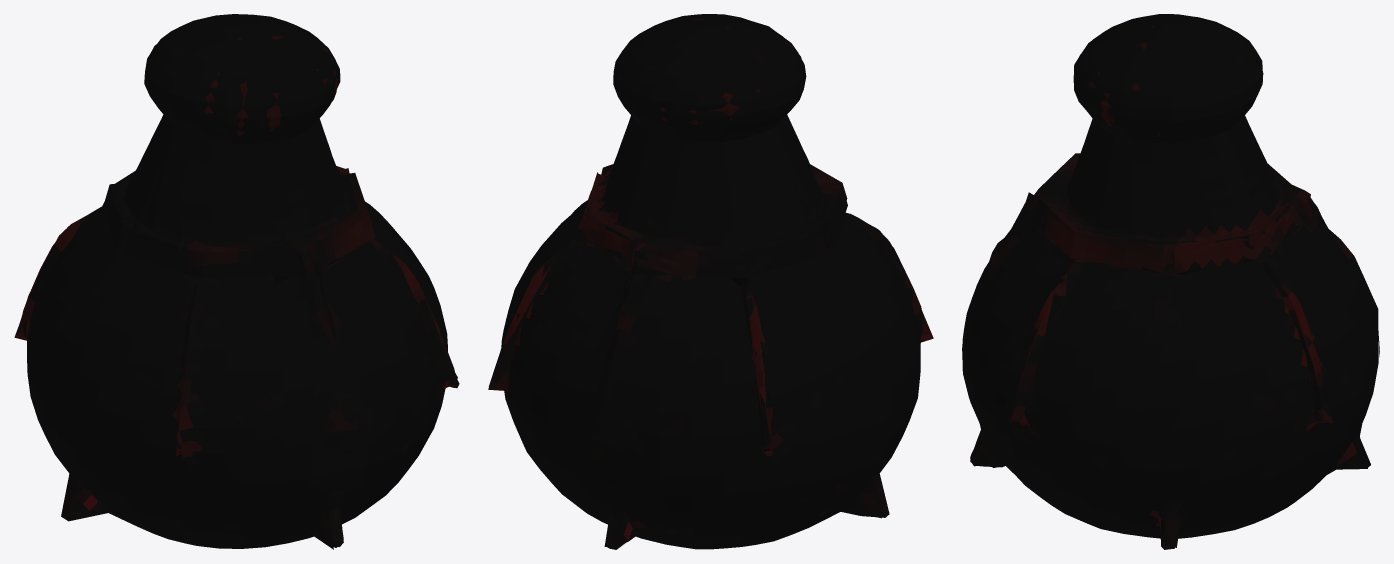
The model's file is SM_LootBag_Red_QuadRetro.glb.
3 views of the same model, side by side, from view 1: azimuth 30°, elevation 25°; view 2: azimuth 150°, elevation 25°; view 3: azimuth 270°, elevation 25° (orthographic).
Parts seen in each view (by area): view 1: LootBag_Red_QuadRemesh; view 2: LootBag_Red_QuadRemesh; view 3: LootBag_Red_QuadRemesh.
Boxes of the visible parts, box(x1,y1,x2,y2) form: LootBag_Red_QuadRemesh: box(14, 14, 459, 549); LootBag_Red_QuadRemesh: box(488, 14, 933, 549); LootBag_Red_QuadRemesh: box(962, 14, 1379, 549).
Size of the model in its own units: 1.54 by 1.99 by 1.56.
Materials: 1 (1 with a texture image).
